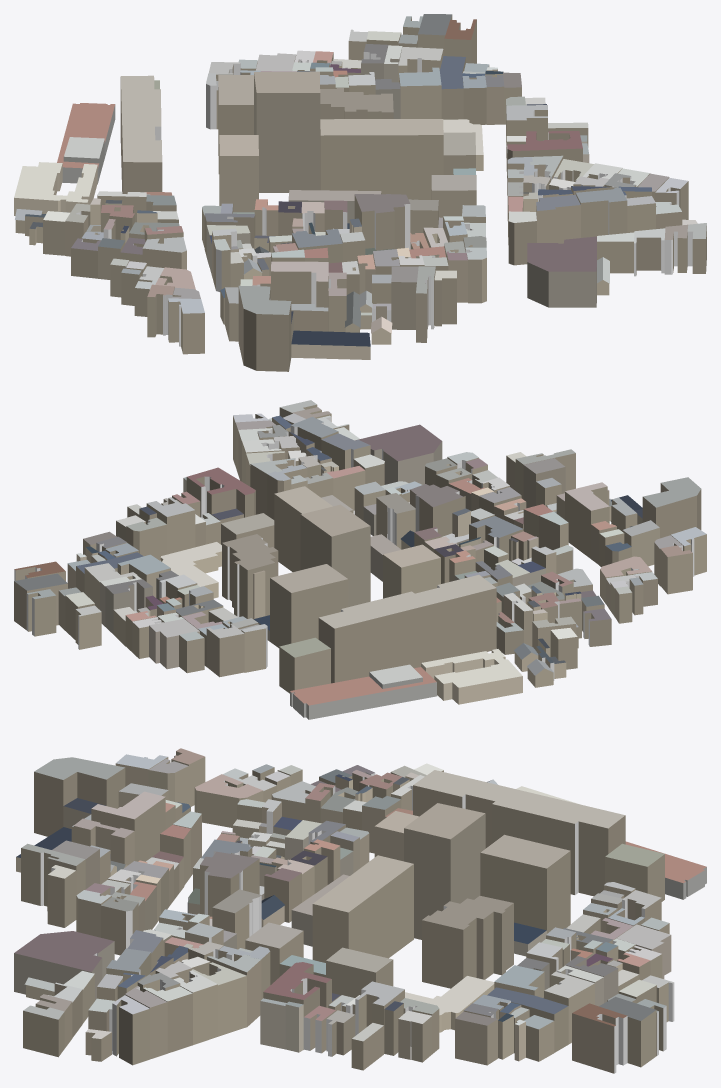
3 views of the same model, one above another, from view 1: azimuth 30°, elevation 25°; view 2: azimuth 150°, elevation 25°; view 3: azimuth 270°, elevation 25° (orthographic). The views are drawn at different scales.
Parts seen in each view (by area): view 1: tuile; view 2: tuile; view 3: tuile.
Part boxes in pixels (x1,y1,x2,y2): tuile: (14, 14, 706, 371); tuile: (14, 400, 706, 719); tuile: (14, 748, 706, 1073).
Bounding box in the file's own units: 268 × 50.93 × 282.
